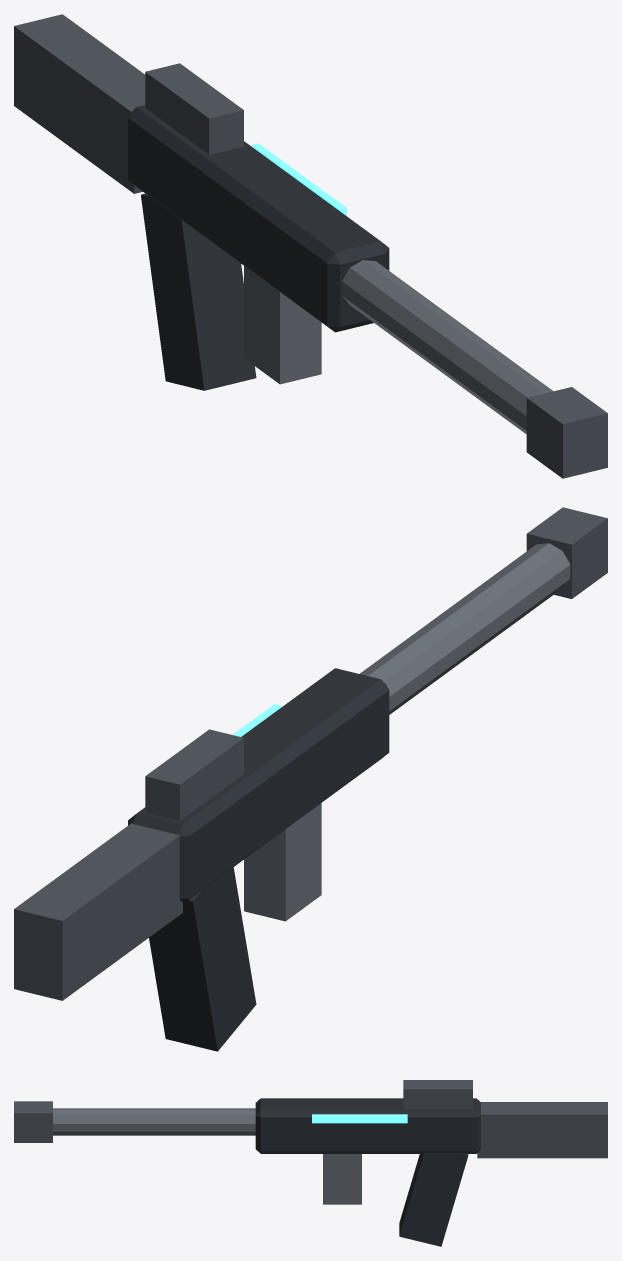
The model's file is Modle_Gun_Single.fbx.
3 views of the same model, one above another, from view 1: azimuth 30°, elevation 25°; view 2: azimuth 150°, elevation 25°; view 3: azimuth 270°, elevation 25° (orthographic). The views are drawn at different scales.
Parts seen in each view (by area): view 1: Modle_Gun_Single; view 2: Modle_Gun_Single; view 3: Modle_Gun_Single.
Part boxes in pixels (<box>): Modle_Gun_Single: <box>14,14,607,478</box>; Modle_Gun_Single: <box>14,507,607,1051</box>; Modle_Gun_Single: <box>14,1080,607,1246</box>.
Size of the model in its own units: 0.097 by 0.3939 by 1.37.
